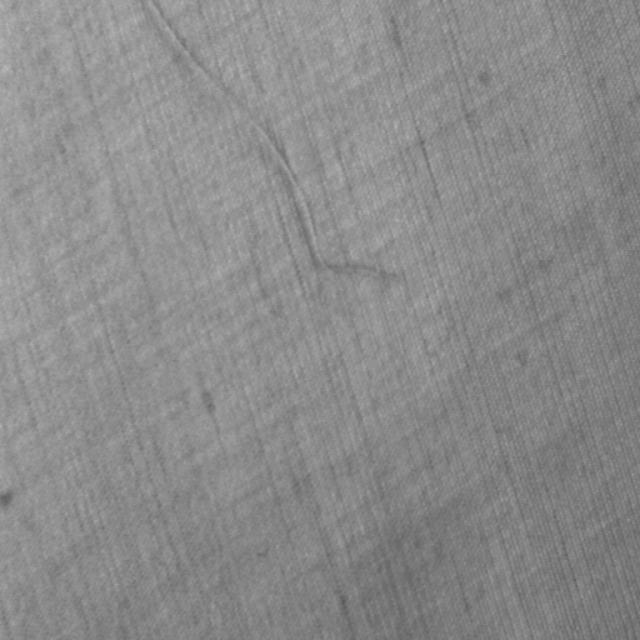objects: (138, 0, 400, 288)
